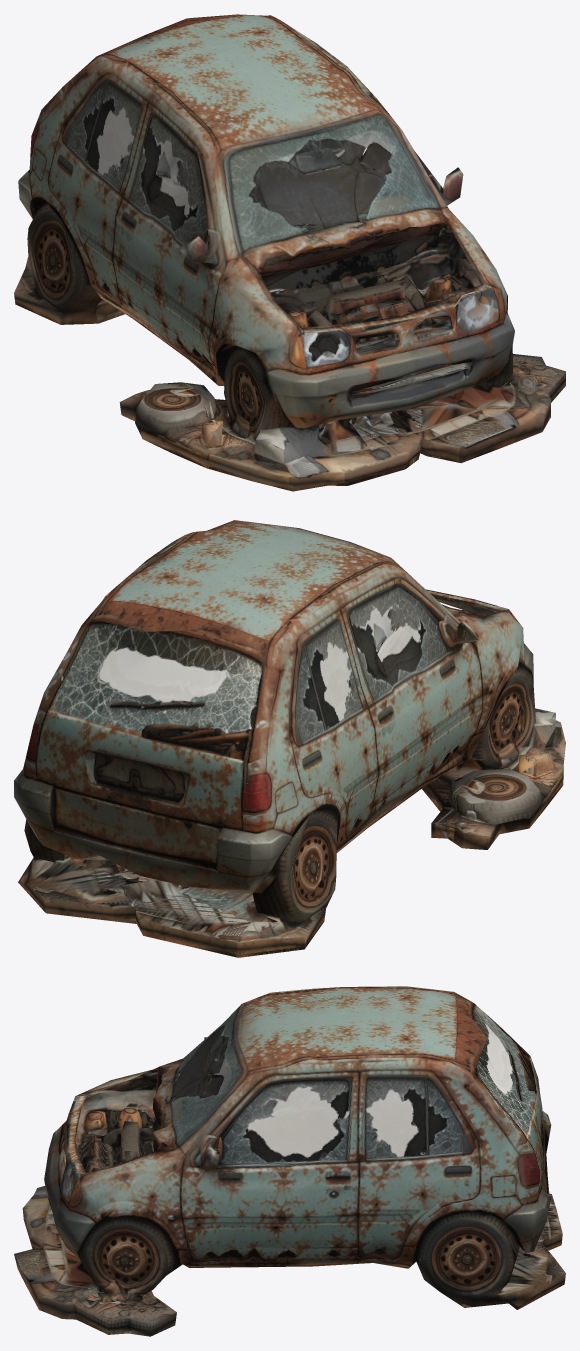
Rendered from rusted-car.glb.
3 renders of one model, top to bottom at view 1: azimuth 30°, elevation 25°; view 2: azimuth 150°, elevation 25°; view 3: azimuth 270°, elevation 25°, orthographic. The views are drawn at different scales.
Visible parts, largest first — view 1: texture_mapping; view 2: texture_mapping; view 3: texture_mapping.
Part boxes in pixels (bbox=[...]): texture_mapping: bbox=[14, 14, 565, 491]; texture_mapping: bbox=[14, 520, 565, 957]; texture_mapping: bbox=[14, 986, 565, 1336].
Size of the model in its own units: 0.6902 by 0.4799 by 0.9892.
Materials: 1 (1 with a texture image).
